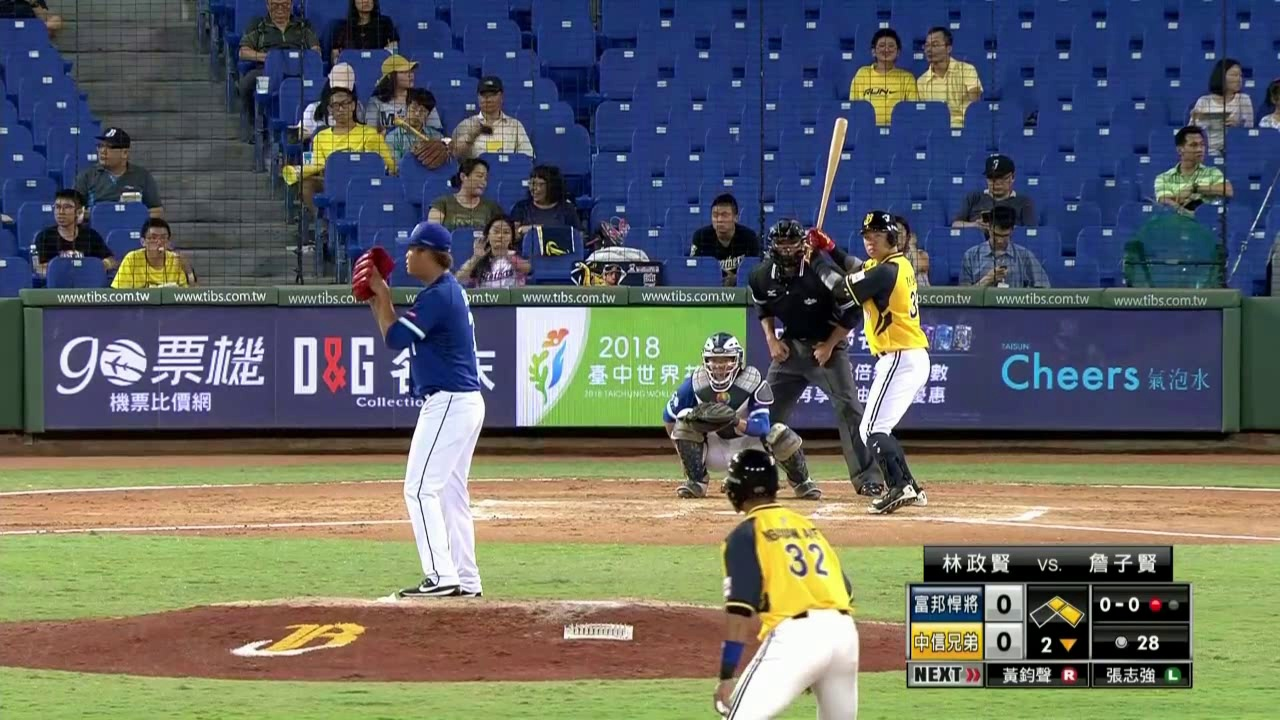base: (1030, 592, 1084, 626)
bat: (813, 114, 851, 232)
out: (1146, 589, 1186, 620)
score1: (988, 588, 1022, 622)
score2: (986, 624, 1021, 655)
session: (1029, 628, 1086, 655)
strikeball: (1094, 588, 1143, 621)
total: (1093, 628, 1186, 655)
